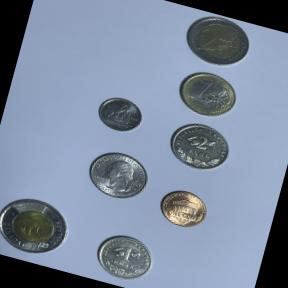1 Euro: (169, 62, 247, 128)
2 Euro: (174, 7, 260, 78)
Canda-10cent-: (89, 88, 150, 142)
Canda-2Dollar-: (0, 188, 78, 266)
Croatia-2Kune-: (160, 114, 240, 180)
US-1cent-: (153, 182, 215, 236)
US-25cent-: (80, 144, 157, 210)
